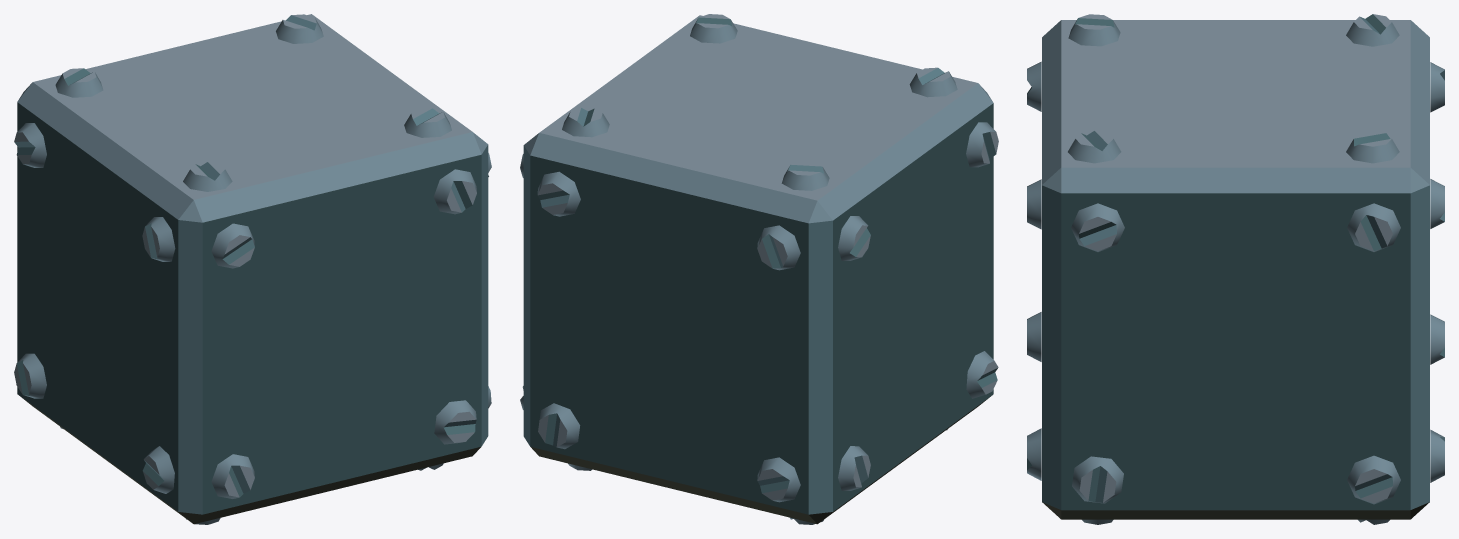
Rendered from m_kub_metal_cubeBig.FBX.
The picture shows the model from 3 angles, left to right: view 1: azimuth 30°, elevation 25°; view 2: azimuth 150°, elevation 25°; view 3: azimuth 270°, elevation 25°; orthographic projection. The views are drawn at different scales.
Visible parts, largest first — view 1: m_kub_metal_cubeBig; view 2: m_kub_metal_cubeBig; view 3: m_kub_metal_cubeBig.
Part boxes in pixels (<box>): m_kub_metal_cubeBig: <box>14,14,491,524</box>; m_kub_metal_cubeBig: <box>520,14,998,524</box>; m_kub_metal_cubeBig: <box>1027,14,1444,524</box>.
Bounding box in the file's own units: 2.15 × 2.15 × 2.15.
